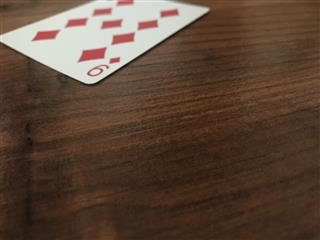NineOfDiamonds: (1, 1, 210, 84)
